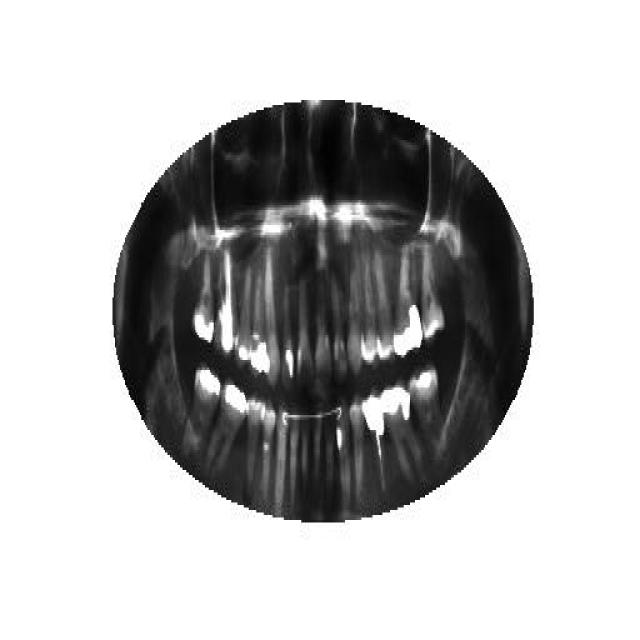Fillings: (382, 378, 422, 480), (206, 380, 248, 475), (408, 365, 448, 457), (391, 242, 421, 360), (184, 362, 220, 458), (190, 253, 216, 345), (264, 245, 280, 387), (280, 280, 296, 392), (235, 268, 253, 360), (250, 272, 264, 380)
Implant: (362, 390, 386, 495), (217, 245, 235, 353)
